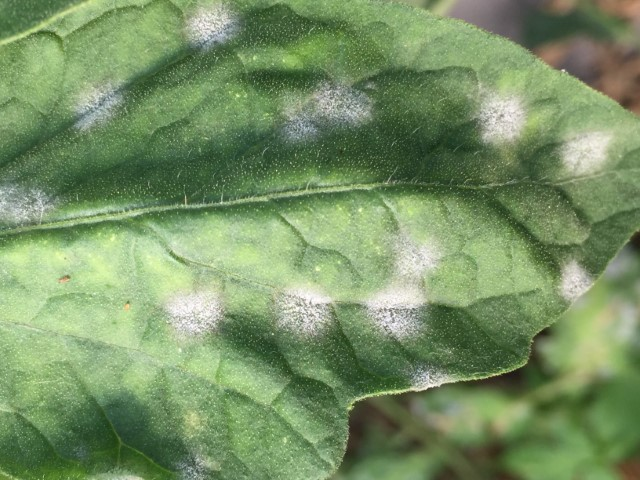oidio: (280, 83, 376, 140), (368, 286, 430, 345), (272, 283, 331, 345), (387, 228, 443, 286), (162, 289, 221, 343), (478, 89, 524, 151), (184, 6, 238, 53), (1, 183, 57, 227), (74, 82, 122, 131), (559, 130, 611, 175), (556, 257, 594, 303), (410, 368, 454, 390), (170, 457, 209, 480)
